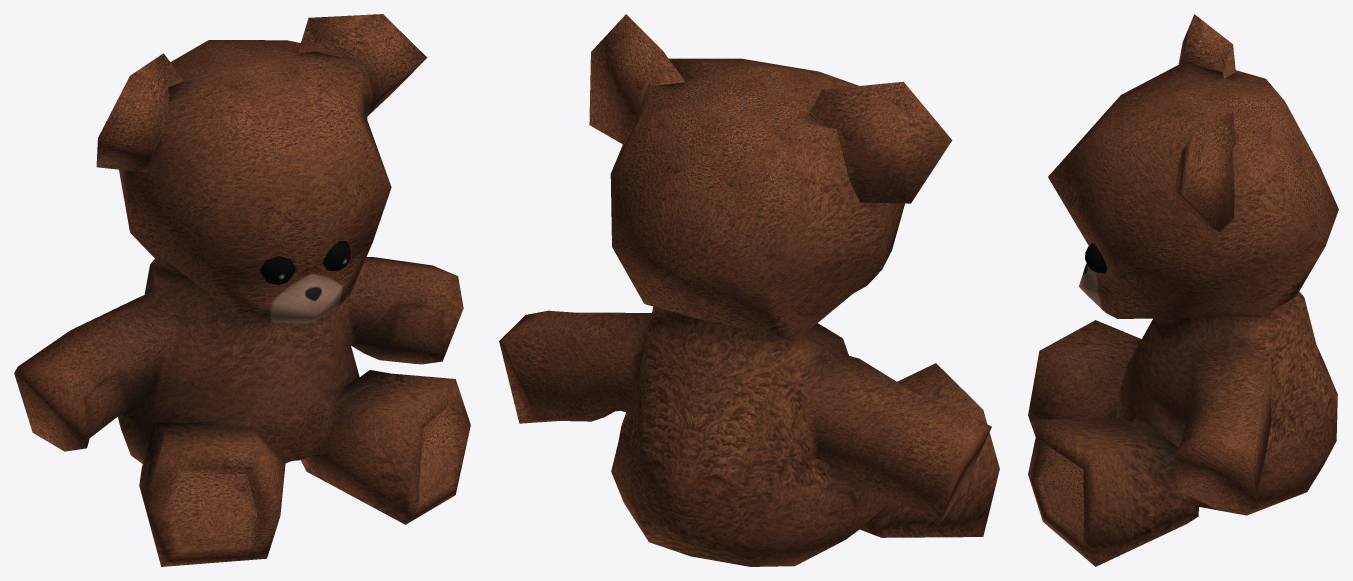
The model's file is bear_01x.fbx.
3 renders of one model, left to right at view 1: azimuth 30°, elevation 25°; view 2: azimuth 150°, elevation 25°; view 3: azimuth 270°, elevation 25°, orthographic. The views are drawn at different scales.
Visible parts, largest first — view 1: bear_01; view 2: bear_01; view 3: bear_01.
Part boxes in pixels (box(x1,y1,x2,y2)): bear_01: box(14, 14, 470, 566); bear_01: box(499, 14, 999, 566); bear_01: box(1028, 14, 1338, 566).
Bounding box in the file's own units: 4.23 × 4.29 × 2.81.
